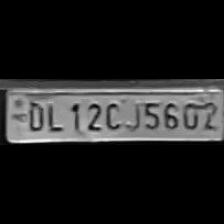0: (180, 97, 200, 130)
1: (64, 99, 82, 133)
2: (82, 98, 102, 132), (200, 97, 218, 130)
5: (140, 97, 160, 130)
6: (160, 99, 178, 131)
C: (102, 99, 120, 131)
D: (24, 98, 44, 132)
J: (123, 97, 141, 130)
L: (44, 99, 64, 133)
